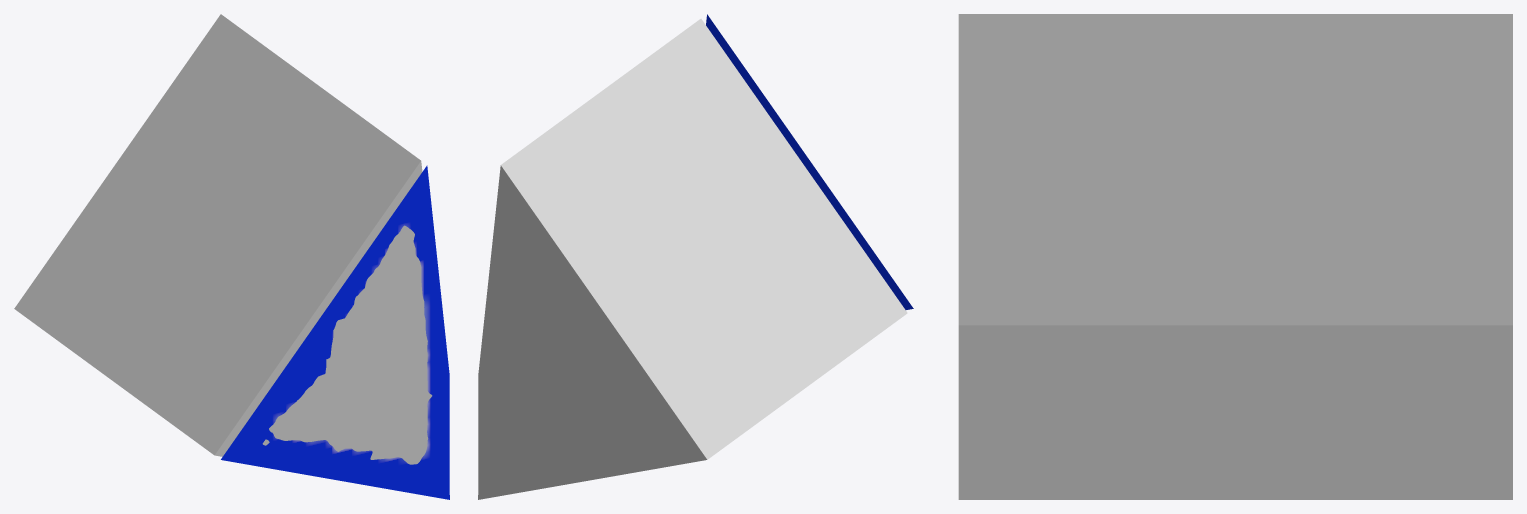
3 renders of one model, left to right at view 1: azimuth 30°, elevation 25°; view 2: azimuth 150°, elevation 25°; view 3: azimuth 270°, elevation 25°, orthographic. The views are drawn at different scales.
Visible parts, largest first — view 1: Out_6_0, Out_6_1; view 2: Out_6_0, Out_6_1; view 3: Out_6_0.
Part boxes in pixels (bbox=[...]): Out_6_0: bbox=[14, 14, 432, 464]; Out_6_1: bbox=[221, 165, 449, 499]; Out_6_0: bbox=[478, 18, 907, 499]; Out_6_1: bbox=[706, 14, 913, 309]; Out_6_0: bbox=[958, 14, 1512, 499].
Bounding box in the file's own units: 0.3303 × 0.4686 × 0.515.
Materials: 2 (1 with a texture image).
